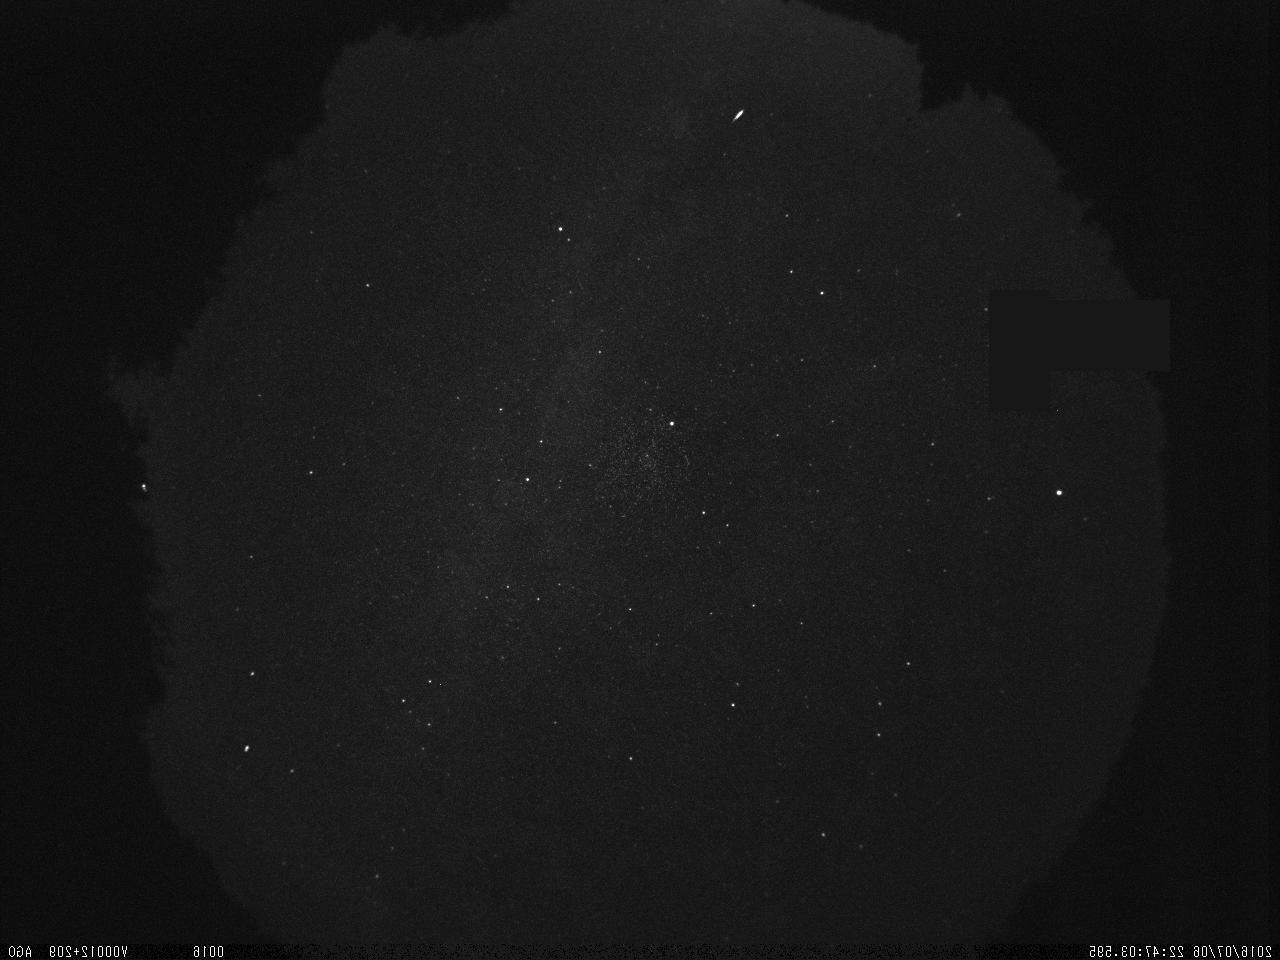meteor: (726, 105, 750, 130)
